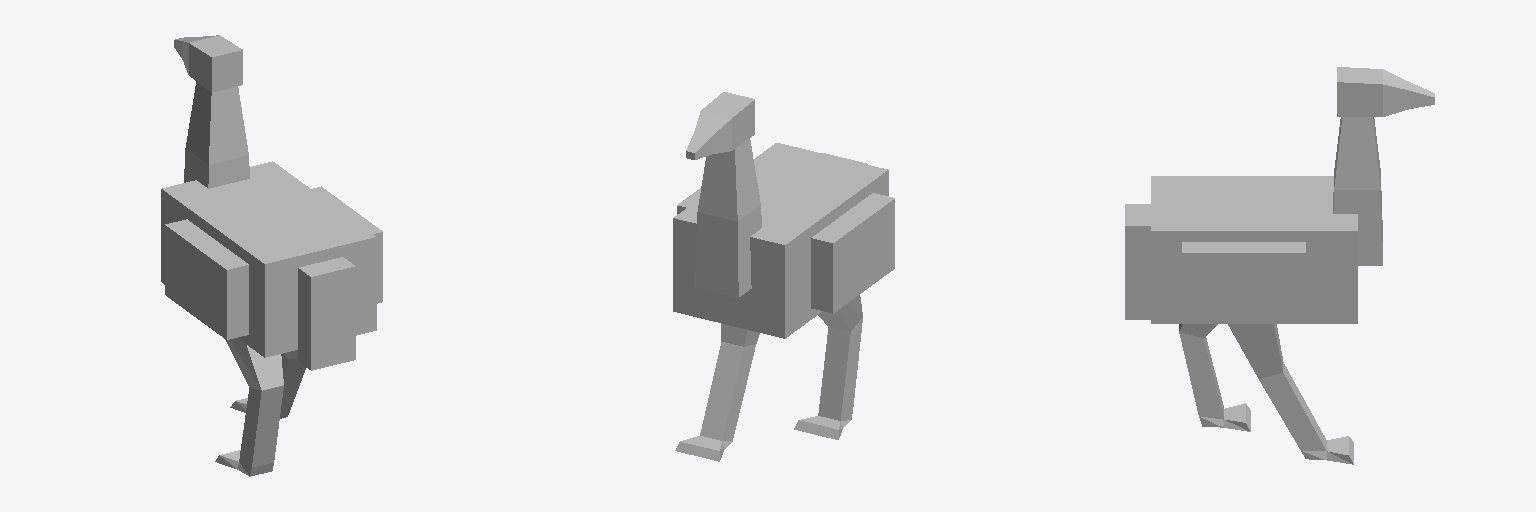
Rendered from Ostrich_000230.obj.
The picture shows the model from 3 angles: view 1: azimuth 30°, elevation 25°; view 2: azimuth 150°, elevation 25°; view 3: azimuth 270°, elevation 25°; orthographic projection.
Visible parts, largest first — view 1: Cube_Cube.001; view 2: Cube_Cube.001; view 3: Cube_Cube.001.
Part boxes in pixels (x1,y1,x2,y2): Cube_Cube.001: (161,35,382,476); Cube_Cube.001: (673,92,894,461); Cube_Cube.001: (1125,67,1434,464).
Bounding box in the file's own units: 0.7 × 1.55 × 1.2.